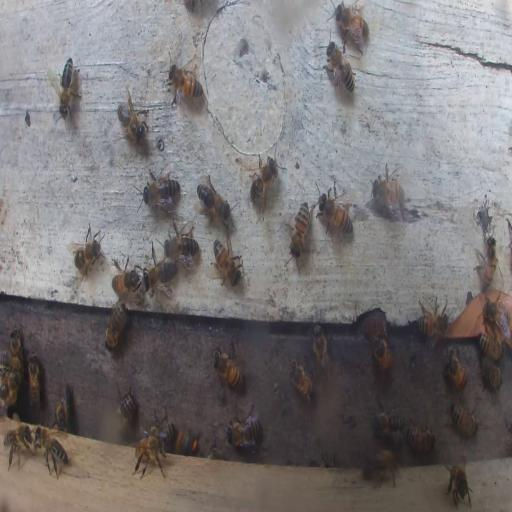nonpollenbee: (246, 151, 282, 214), (315, 181, 353, 236), (372, 163, 408, 220), (196, 174, 232, 226), (70, 224, 104, 279), (164, 217, 199, 270), (332, 3, 370, 51), (324, 40, 356, 96), (37, 428, 71, 480), (53, 56, 81, 119), (133, 432, 169, 477), (143, 170, 182, 211), (117, 94, 147, 145), (167, 61, 204, 102), (211, 238, 242, 286), (4, 424, 33, 474), (365, 447, 400, 488), (227, 405, 261, 446), (144, 254, 176, 296), (214, 346, 244, 388), (104, 300, 129, 350), (289, 202, 311, 256), (372, 402, 404, 439), (446, 458, 470, 507), (288, 359, 315, 400), (417, 308, 450, 340), (476, 238, 498, 286), (481, 298, 510, 334), (311, 324, 330, 377), (444, 348, 468, 389), (110, 263, 141, 294), (369, 330, 391, 373), (451, 404, 478, 438), (404, 423, 434, 453), (54, 383, 71, 431), (478, 327, 503, 359), (116, 386, 136, 425), (28, 354, 42, 408), (0, 372, 20, 406), (150, 414, 172, 440), (11, 326, 22, 372), (484, 364, 502, 390), (0, 355, 21, 375), (207, 444, 223, 458)
pollenbee: (173, 426, 199, 456)
